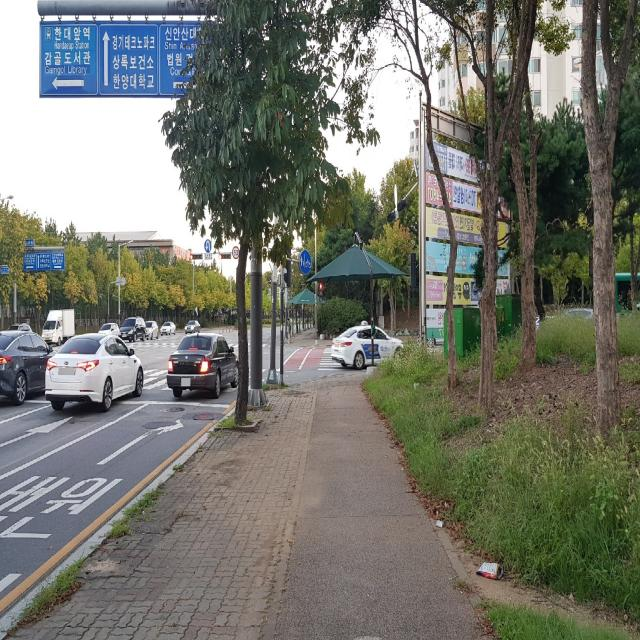횡단보도: (317, 348, 366, 371)
